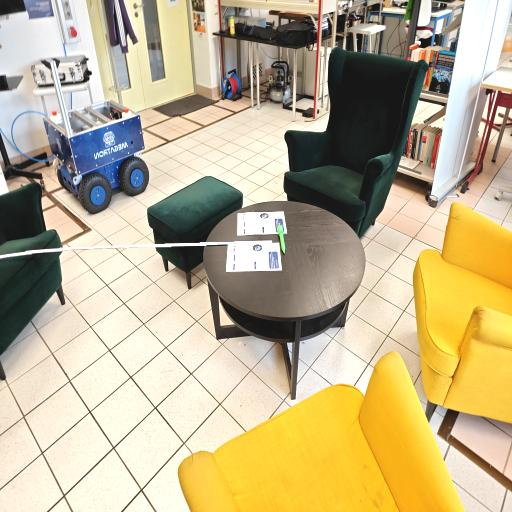Probe-Detection: (278, 225, 286, 253)
